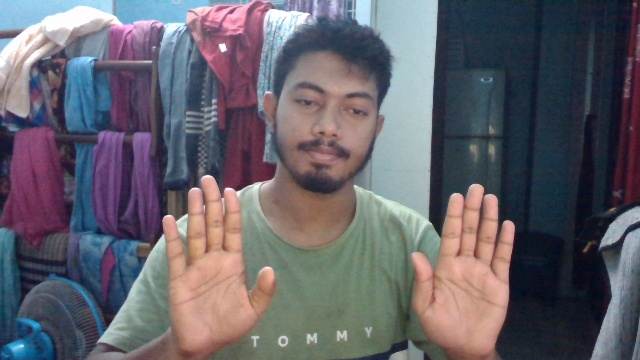thanks: (153, 170, 516, 356)
